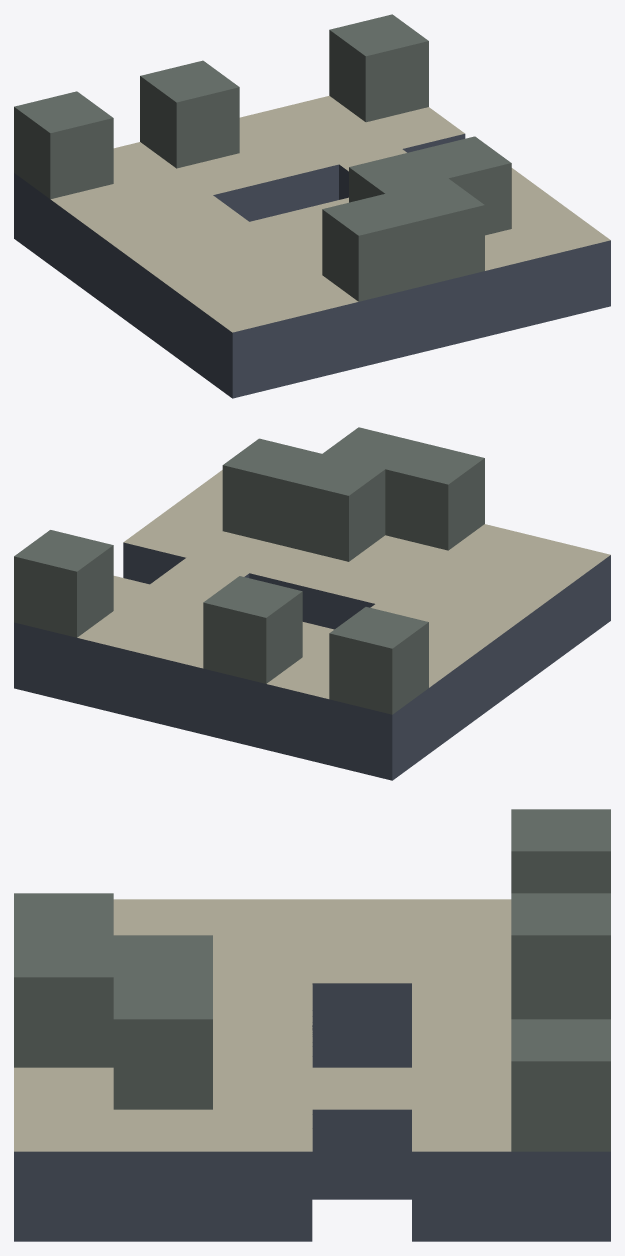
3 renders of one model, top to bottom at view 1: azimuth 30°, elevation 25°; view 2: azimuth 150°, elevation 25°; view 3: azimuth 270°, elevation 25°, orthographic. The views are drawn at different scales.
Parts seen in each view (by area): view 1: 2.2; view 2: 2.2; view 3: 2.2.
Boxes of the visible parts, x1,y1,x2,y2 form: 2.2: (14, 14, 610, 398); 2.2: (14, 427, 610, 780); 2.2: (14, 809, 610, 1241).
Size of the model in its own units: 600 by 200 by 600.
